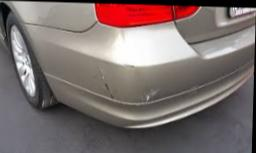Bumper: (91, 58, 166, 108)
